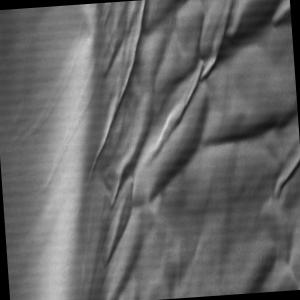Wrinkle: (26, 1, 300, 300)
